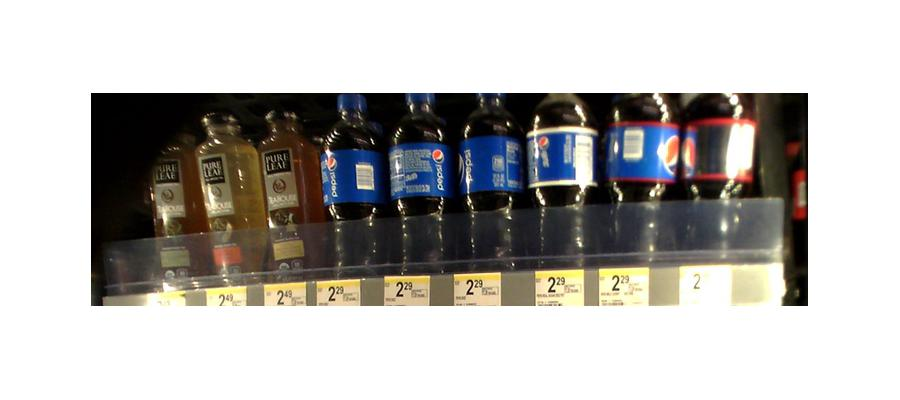bottle: (531, 92, 600, 263), (603, 97, 675, 258), (322, 90, 384, 275), (390, 90, 453, 270), (457, 92, 524, 261), (196, 109, 261, 283), (259, 103, 321, 277), (682, 92, 748, 243), (153, 111, 201, 290)
